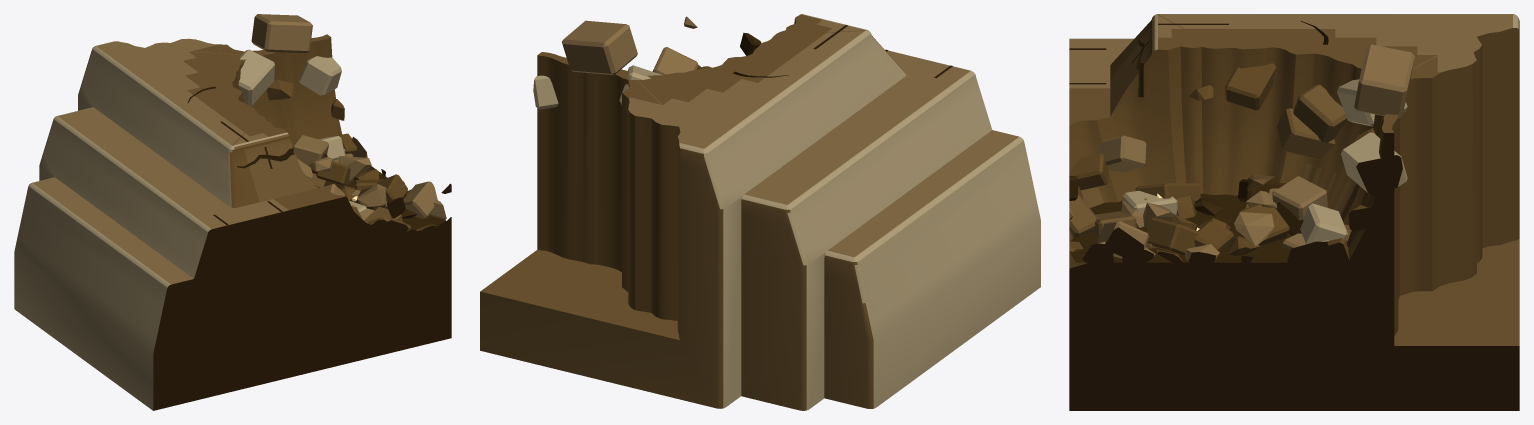
The model's file is pyramid_153_wreck.glb.
3 views of the same model, side by side, from view 1: azimuth 30°, elevation 25°; view 2: azimuth 150°, elevation 25°; view 3: azimuth 270°, elevation 25° (orthographic). The views are drawn at different scales.
Visible parts, largest first — view 1: level0.001, tumbled1.001, tumbled0.001, tumbled2.001, heap60.001, heap51.001, heap16.001, heap59.001, heap20.001, heap54.001, heap57.001, heap13.001; view 2: level0.001, tumbled1.001, heap60.001, tumbled2.001; view 3: level0.001, tumbled1.001, tumbled2.001, tumbled4.001, heap0.001, heap2.001, heap51.001, heap5.001, tumbled5.001, heap60.001, heap59.001, heap31.001 (+20 smaller).
Part boxes in pixels (x1,y1,x2,y2): level0.001: (14, 34, 451, 410); tumbled1.001: (251, 14, 312, 53); tumbled0.001: (238, 49, 274, 106); tumbled2.001: (299, 56, 341, 95); heap60.001: (403, 181, 437, 218); heap51.001: (292, 135, 328, 165); heap16.001: (316, 158, 353, 185); heap59.001: (375, 174, 407, 206); heap20.001: (381, 217, 411, 242); heap54.001: (357, 184, 386, 206); heap57.001: (338, 156, 371, 180); heap13.001: (266, 79, 292, 100); level0.001: (480, 14, 1040, 410); tumbled1.001: (562, 20, 637, 75); heap60.001: (652, 47, 698, 75); tumbled2.001: (533, 75, 558, 109); level0.001: (1069, 14, 1519, 410); tumbled1.001: (1354, 44, 1414, 118); tumbled2.001: (1341, 132, 1407, 195); tumbled4.001: (1293, 84, 1347, 142); heap0.001: (1225, 63, 1275, 110); heap2.001: (1276, 108, 1335, 159); heap51.001: (1272, 176, 1327, 220); heap5.001: (1096, 135, 1146, 172); tumbled5.001: (1300, 203, 1347, 244); heap60.001: (1097, 221, 1148, 261); heap59.001: (1146, 217, 1200, 255); heap31.001: (1311, 238, 1350, 275).
Bounding box in the file's own units: 22 × 17.51 × 22.
